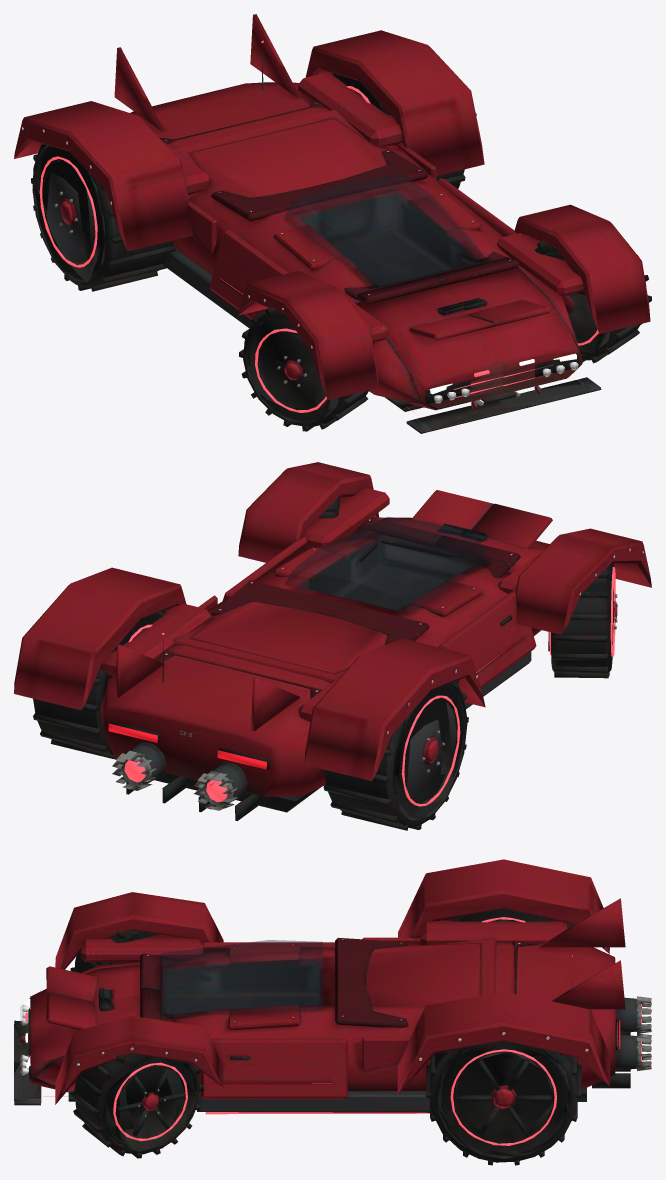
The model's file is CRX1_interceptor_pursuit_lod1.glb.
The picture shows the model from 3 angles, top to bottom: view 1: azimuth 30°, elevation 25°; view 2: azimuth 150°, elevation 25°; view 3: azimuth 270°, elevation 25°; orthographic projection. The views are drawn at different scales.
Parts seen in each view (by area): view 1: CRX1_interceptor_pursuit_LOD1; view 2: CRX1_interceptor_pursuit_LOD1; view 3: CRX1_interceptor_pursuit_LOD1.
Part boxes in pixels (x1,y1,x2,y2): CRX1_interceptor_pursuit_LOD1: [14, 14, 651, 433]; CRX1_interceptor_pursuit_LOD1: [14, 462, 651, 830]; CRX1_interceptor_pursuit_LOD1: [14, 859, 651, 1165].
Size of the model in its own units: 4.08 by 1.75 by 6.53.
8 materials, 4 textured.
